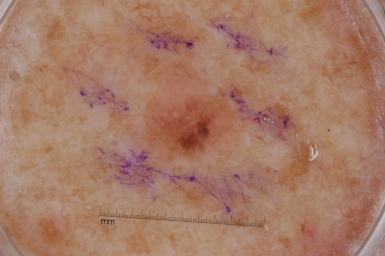seborrheic keratosis: (131, 75, 240, 158)
